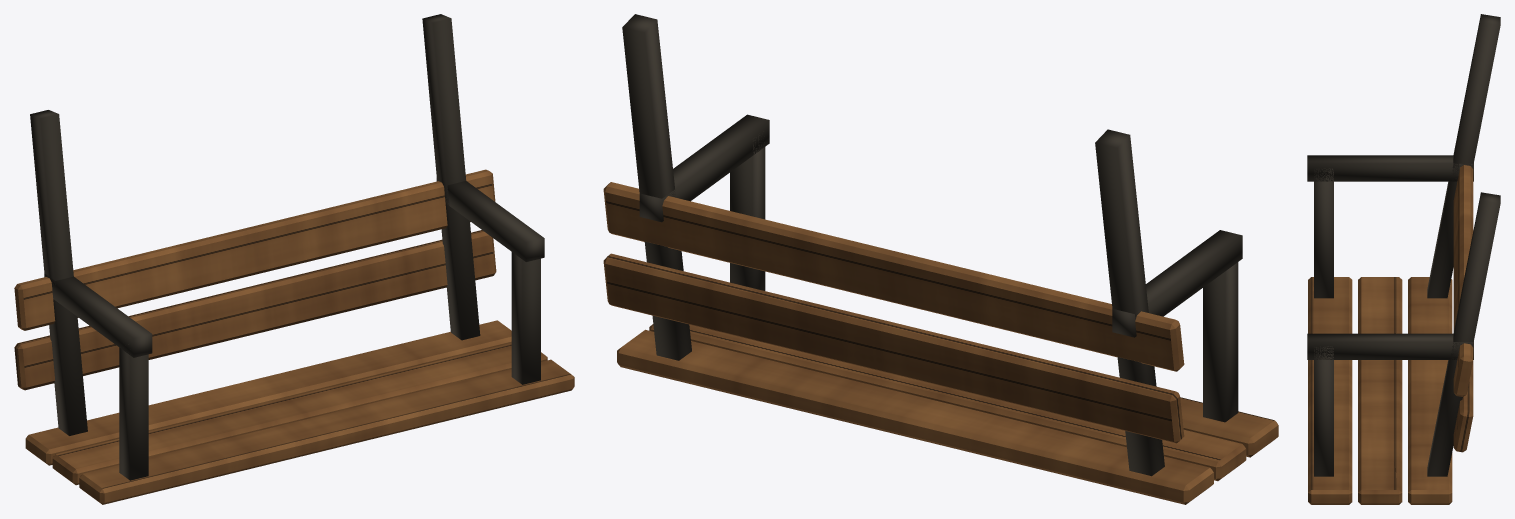
Rendered from aa_bench.fbx.
3 views of the same model, side by side, from view 1: azimuth 30°, elevation 25°; view 2: azimuth 150°, elevation 25°; view 3: azimuth 270°, elevation 25° (orthographic). The views are drawn at different scales.
Visible parts, largest first — view 1: Asset_Bench_Wood, Asset_Bench_Iron; view 2: Asset_Bench_Wood, Asset_Bench_Iron; view 3: Asset_Bench_Wood, Asset_Bench_Iron.
Boxes of the visible parts, box(x1,y1,x2,y2) form: Asset_Bench_Wood: box(14, 169, 574, 504); Asset_Bench_Iron: box(30, 14, 544, 480); Asset_Bench_Wood: box(603, 182, 1278, 504); Asset_Bench_Iron: box(622, 14, 1242, 476); Asset_Bench_Wood: box(1308, 165, 1473, 504); Asset_Bench_Iron: box(1307, 14, 1500, 476).
Bounding box in the file's own units: 4.6 × 2.9 × 1.74.
Materials: 2 (2 with a texture image).
